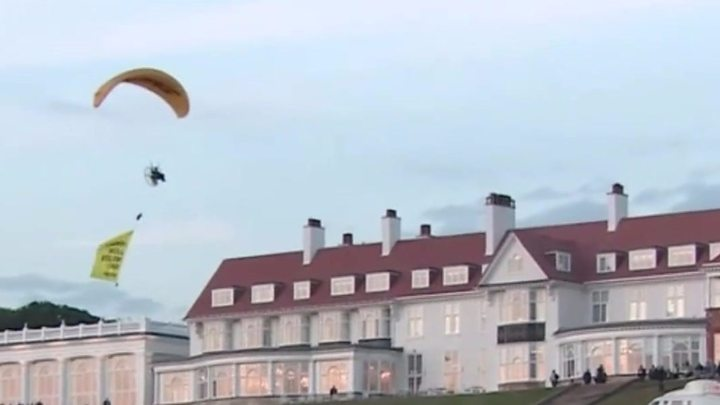Paraglider: (80, 74, 199, 123)
